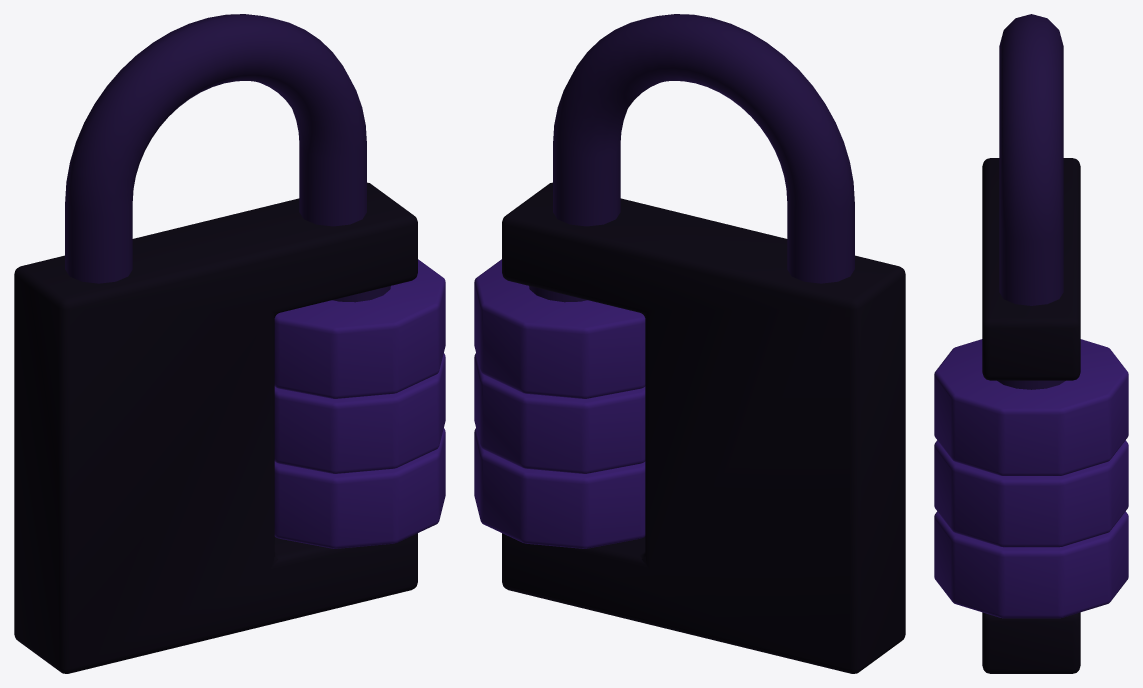
Rendered from padlock.glb.
The picture shows the model from 3 angles, left to right: view 1: azimuth 30°, elevation 25°; view 2: azimuth 150°, elevation 25°; view 3: azimuth 270°, elevation 25°; orthographic projection. The views are drawn at different scales.
Parts seen in each view (by area): view 1: Cube, Torus, Cylinder, Cylinder.001, Cylinder.002; view 2: Cube, Torus, Cylinder, Cylinder.001, Cylinder.002; view 3: Cylinder, Cube, Torus, Cylinder.001, Cylinder.002, Cylinder.003.
Boxes of the visible parts, <box> form: Cube: <box>14,182,417,673</box>; Torus: <box>65,14,366,283</box>; Cylinder: <box>274,259,445,398</box>; Cylinder.001: <box>274,353,445,473</box>; Cylinder.002: <box>274,428,445,548</box>; Cube: <box>502,182,905,673</box>; Torus: <box>553,14,854,283</box>; Cylinder: <box>474,259,645,398</box>; Cylinder.001: <box>474,353,645,473</box>; Cylinder.002: <box>474,428,645,548</box>; Cylinder: <box>934,339,1128,475</box>; Cube: <box>982,158,1080,673</box>; Torus: <box>999,14,1063,305</box>; Cylinder.001: <box>934,440,1128,547</box>; Cylinder.002: <box>934,511,1128,618</box>; Cylinder.003: <box>997,380,1065,389</box>.
Size of the model in its own units: 2.2 by 3.18 by 0.9913.
